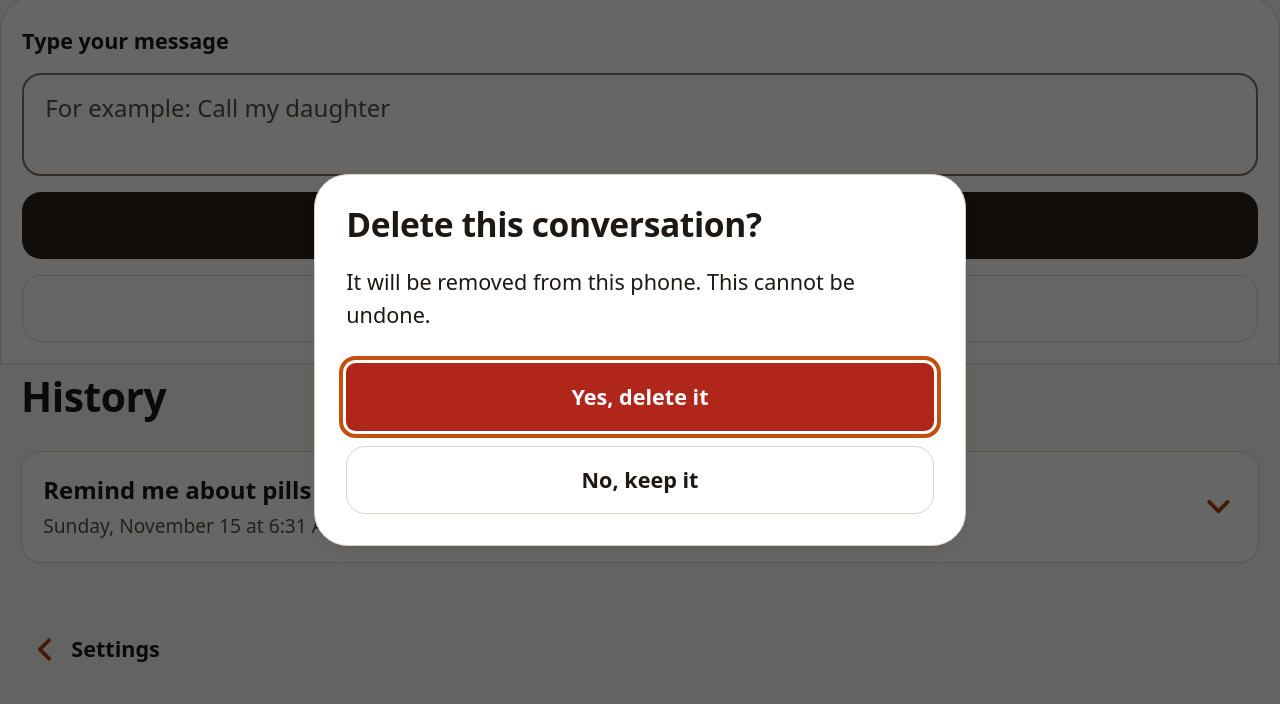
Test case: history and privacy › a conversation can be deleted from History after confirming
The image size is (1280, 704).
Earlier steps of the test are not shown.
(page scrolled)
Step 1. Click the button "Yes, delete it" → (640, 397), box [346,363,934,430]
(page scrolled)
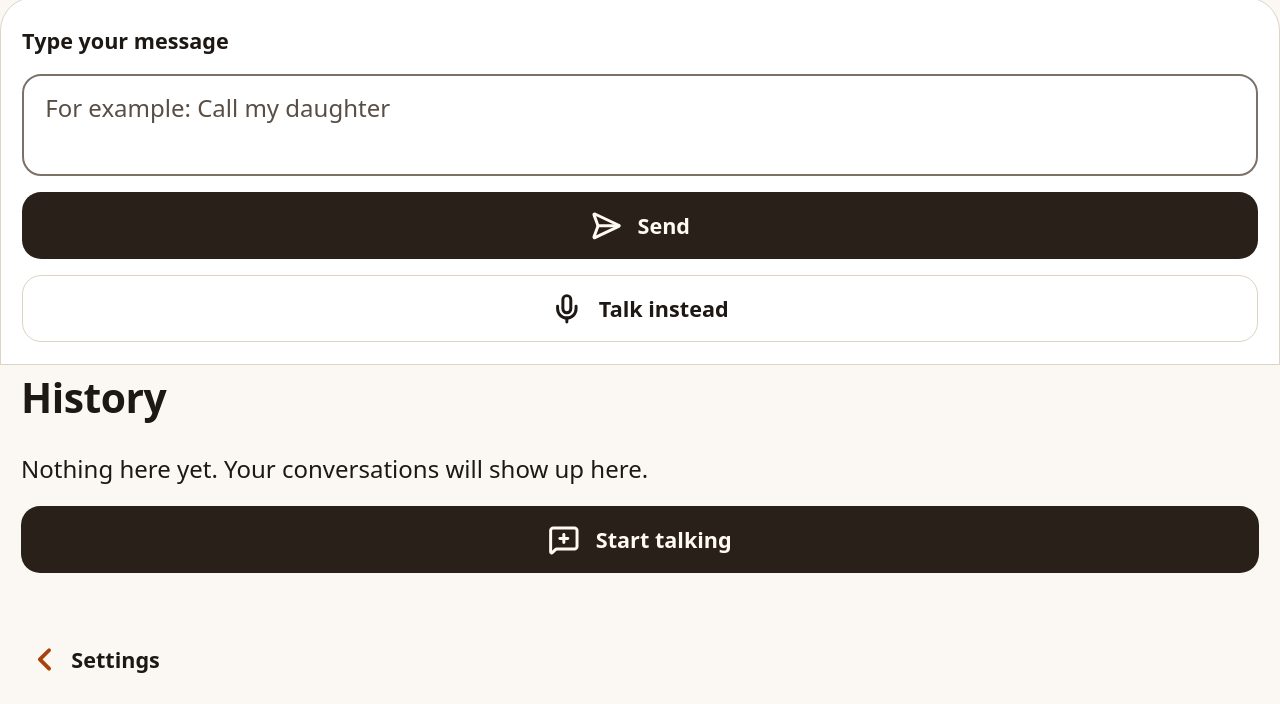
Expected: the text "Nothing here yet. Your conversations will show up here." is shown, [21,452,648,485]
